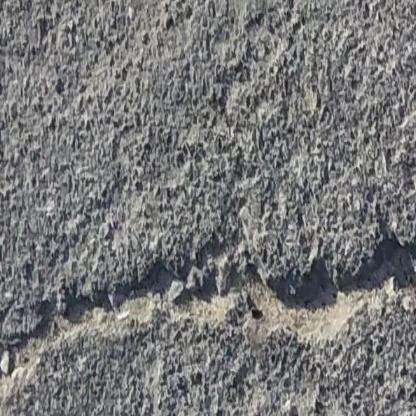Cracks: (0, 223, 416, 416)
